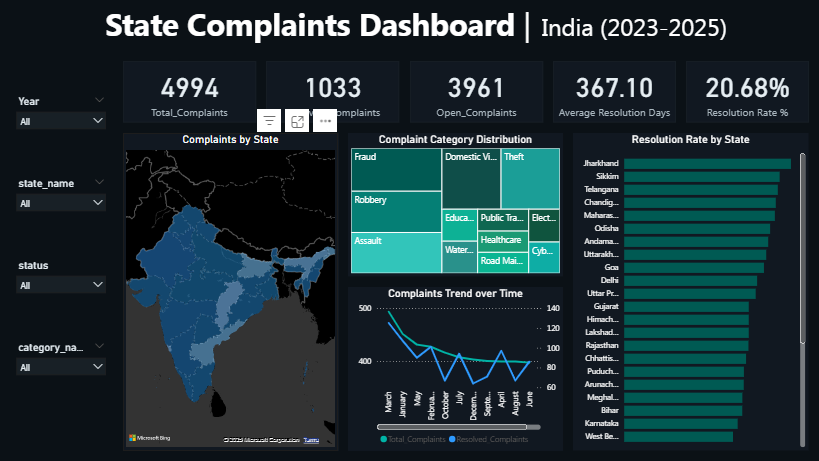

What the dashboard file says about the page in this screenshot:
{"tool":"powerbi","page":{"name":"Page 1","canvas":[1280,720],"ordinal":0},"visuals":[{"type":"card","fields":{"Values":["Base Measures.Average Resolution Days"]},"box":[864,96,192,96],"z":0},{"type":"card","fields":{"Values":["Base Measures.Resolution Rate %"]},"box":[1072,96,192,96],"z":1000},{"type":"card","fields":{"Values":["Base Measures.Open_Complaints"]},"box":[640,96,208,96],"z":2000},{"type":"card","fields":{"Values":["Base Measures.Resolved_Complaints"]},"box":[416,96,208,96],"z":3000},{"type":"card","fields":{"Values":["Base Measures.Total_Complaints"]},"box":[192,96,208,96],"z":4000},{"type":"slicer","fields":{"Values":["complaints_full.Year"]},"box":[16,144,160,64],"z":5000},{"type":"slicer","fields":{"Values":["states_full.state_name"]},"box":[16,272,160,80],"z":6000},{"type":"slicer","fields":{"Values":["complaints_full.status"]},"box":[16,400,160,64],"z":7000},{"type":"slicer","fields":{"Values":["categories_full.category_name"]},"box":[16,528,160,64],"z":8000},{"type":"filledMap","title":"Complaints by State","fields":{"Category":["states_full.state_name"]},"box":[192,208,336,496],"z":9000},{"type":"treemap","title":"Complaint Category Distribution","fields":{"Group":["categories_full.category_name"],"Values":["Base Measures.Total_Complaints"]},"box":[544,208,336,224],"z":10000},{"type":"clusteredBarChart","title":"Resolution Rate by State ","fields":{"Category":["states_full.state_name"],"Y":["Base Measures.Resolution Rate %"]},"box":[896,208,368,496],"z":11000},{"type":"lineChart","title":"Complaints Trend over Time","fields":{"Category":["complaints_full.Month"],"Y":["Base Measures.Total_Complaints"],"Y2":["Base Measures.Resolved_Complaints"]},"box":[544,448,336,256],"z":12000},{"type":"textbox","box":[160,0,1040,80],"z":13000}]}

Visuals, with their boxes in screenshot pixels (x1, y1, x2, y2), scaled from the page's 1280x720 canvas onto the 819x461 screenshot:
card - Base Measures.Average Resolution Days: x1=553 y1=61 x2=676 y2=123
card - Base Measures.Resolution Rate %: x1=686 y1=61 x2=809 y2=123
card - Base Measures.Open_Complaints: x1=410 y1=61 x2=543 y2=123
card - Base Measures.Resolved_Complaints: x1=266 y1=61 x2=399 y2=123
card - Base Measures.Total_Complaints: x1=123 y1=61 x2=256 y2=123
slicer - complaints_full.Year: x1=10 y1=92 x2=113 y2=133
slicer - states_full.state_name: x1=10 y1=174 x2=113 y2=225
slicer - complaints_full.status: x1=10 y1=256 x2=113 y2=297
slicer - categories_full.category_name: x1=10 y1=338 x2=113 y2=379
"Complaints by State" filledMap: x1=123 y1=133 x2=338 y2=451
"Complaint Category Distribution" treemap: x1=348 y1=133 x2=563 y2=277
"Resolution Rate by State " clusteredBarChart: x1=573 y1=133 x2=809 y2=451
"Complaints Trend over Time" lineChart: x1=348 y1=287 x2=563 y2=451
textbox: x1=102 y1=0 x2=768 y2=51
